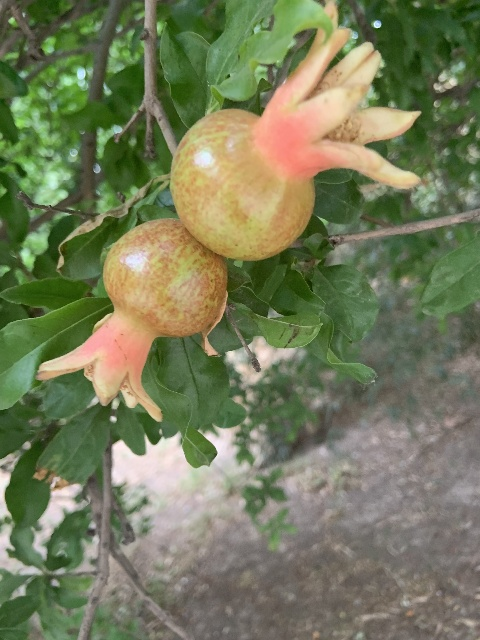early-fruit: (172, 18, 422, 260), (35, 217, 226, 421)
